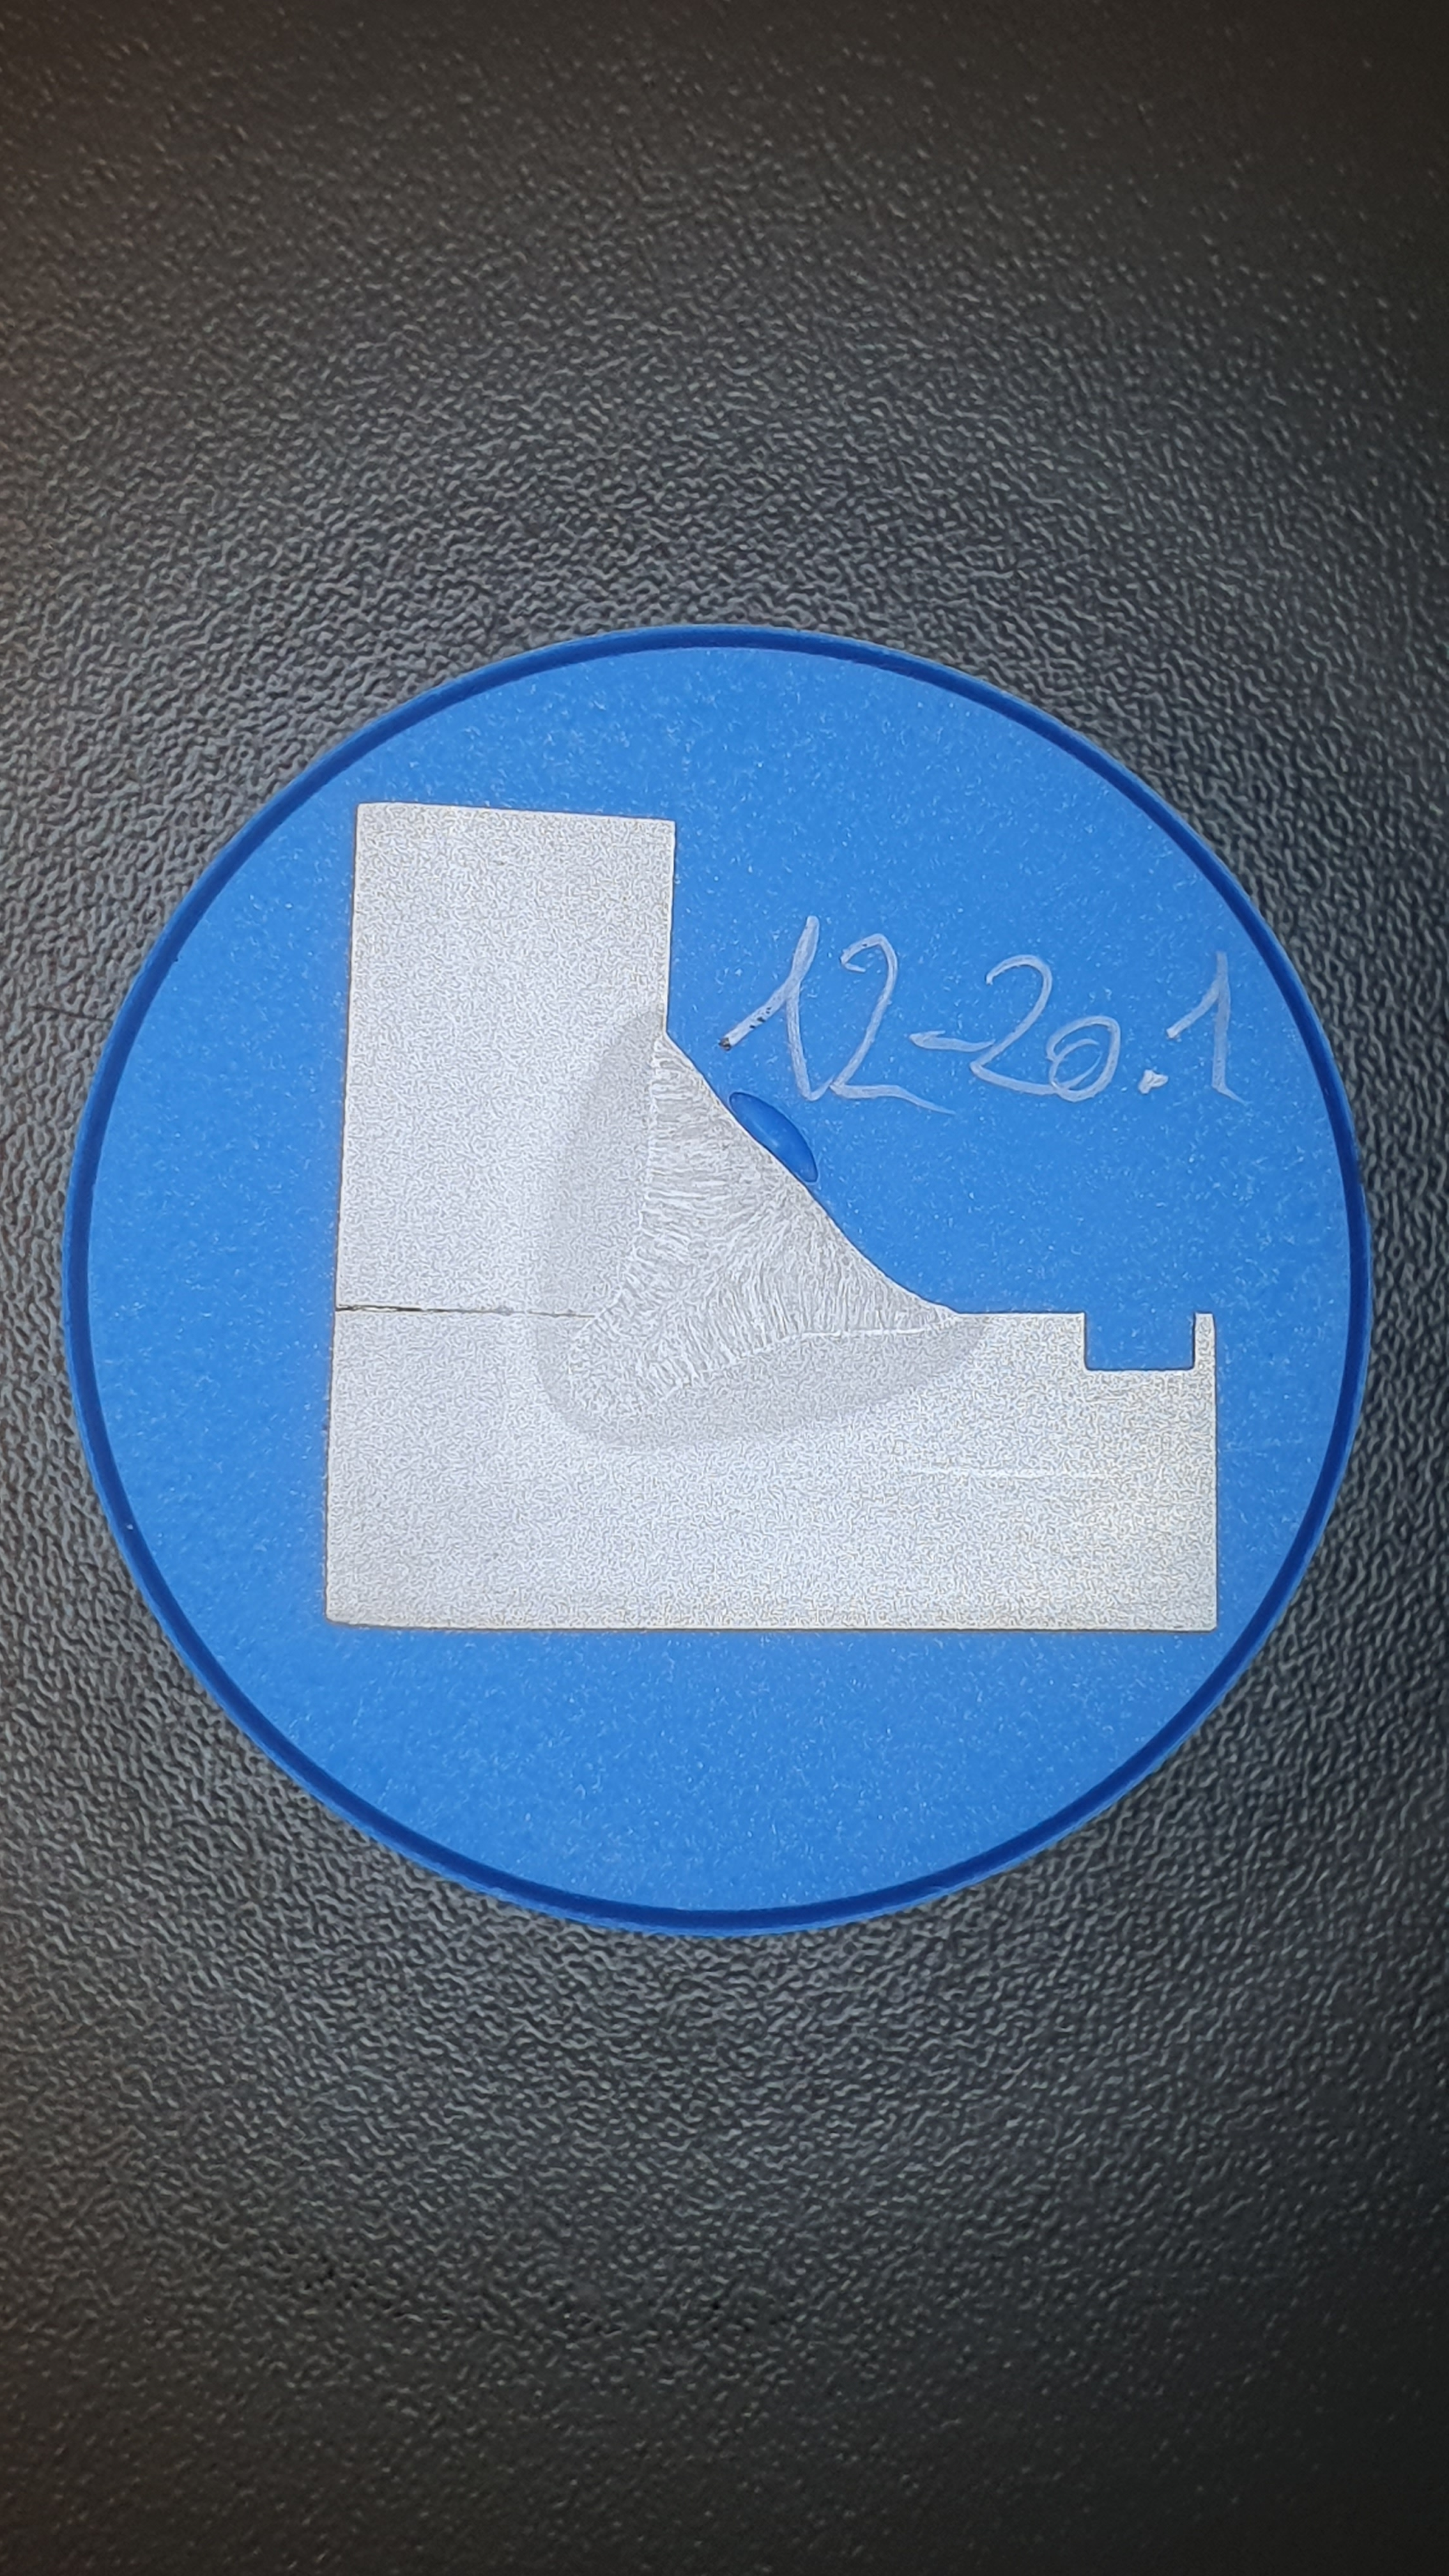Fusion: (570, 1030, 954, 1421)
Hintergrund: (85, 648, 1352, 1911)
Metall: (326, 800, 1217, 1633)
Nebenbereich: (536, 1005, 989, 1451)
